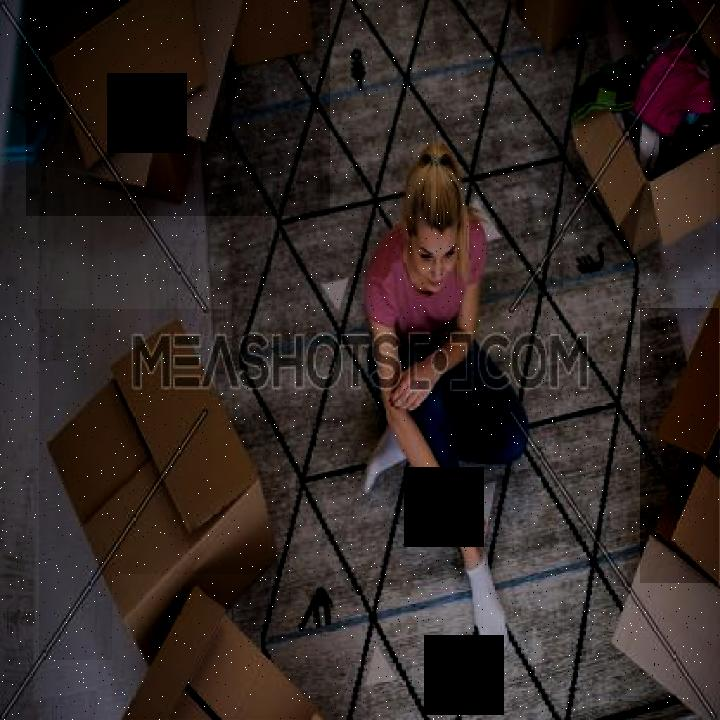box: (39, 309, 290, 660), (26, 0, 330, 216), (564, 34, 717, 288), (112, 574, 322, 719), (640, 308, 719, 583)
